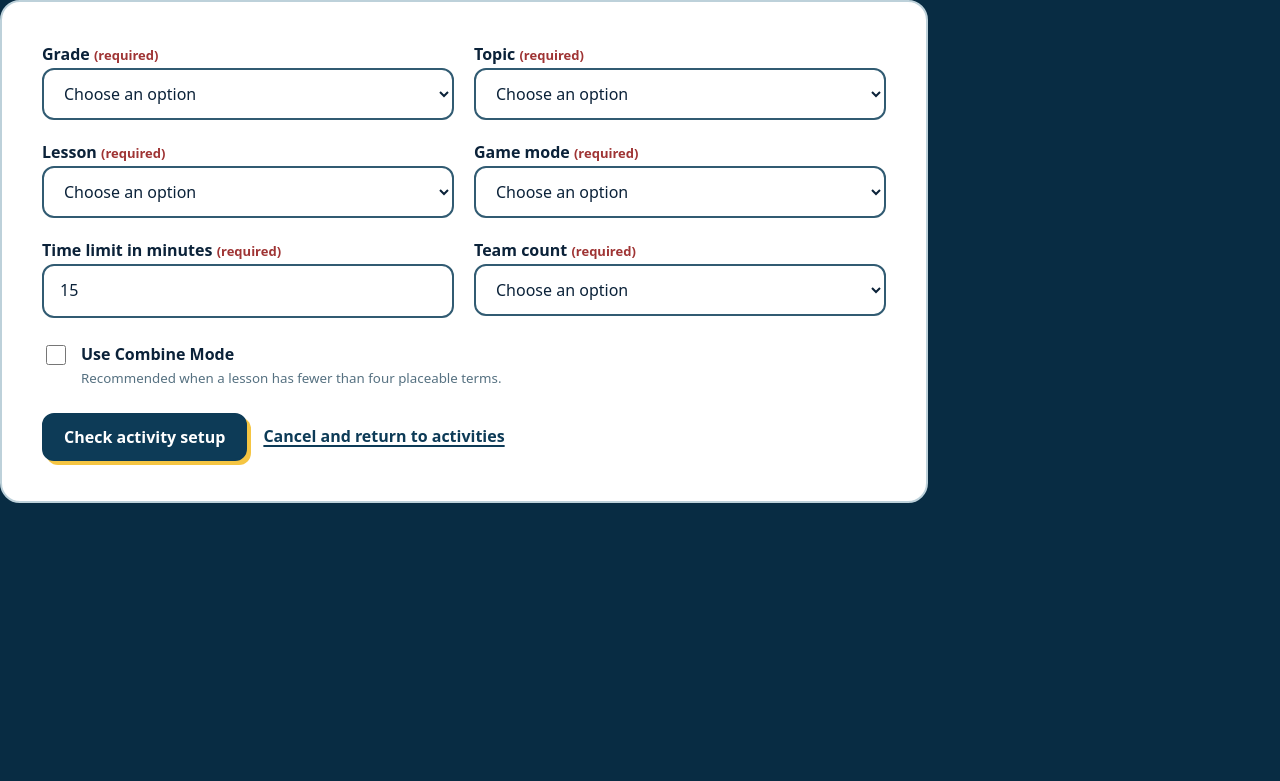
Test case: teacher workflow prototype forms › reports all missing activity choices in a focused summary
What coordinates should you click on to do the following:
click the button "Check activity setup"
I would click on:
 (145, 437)
Its box is [42, 413, 247, 461].
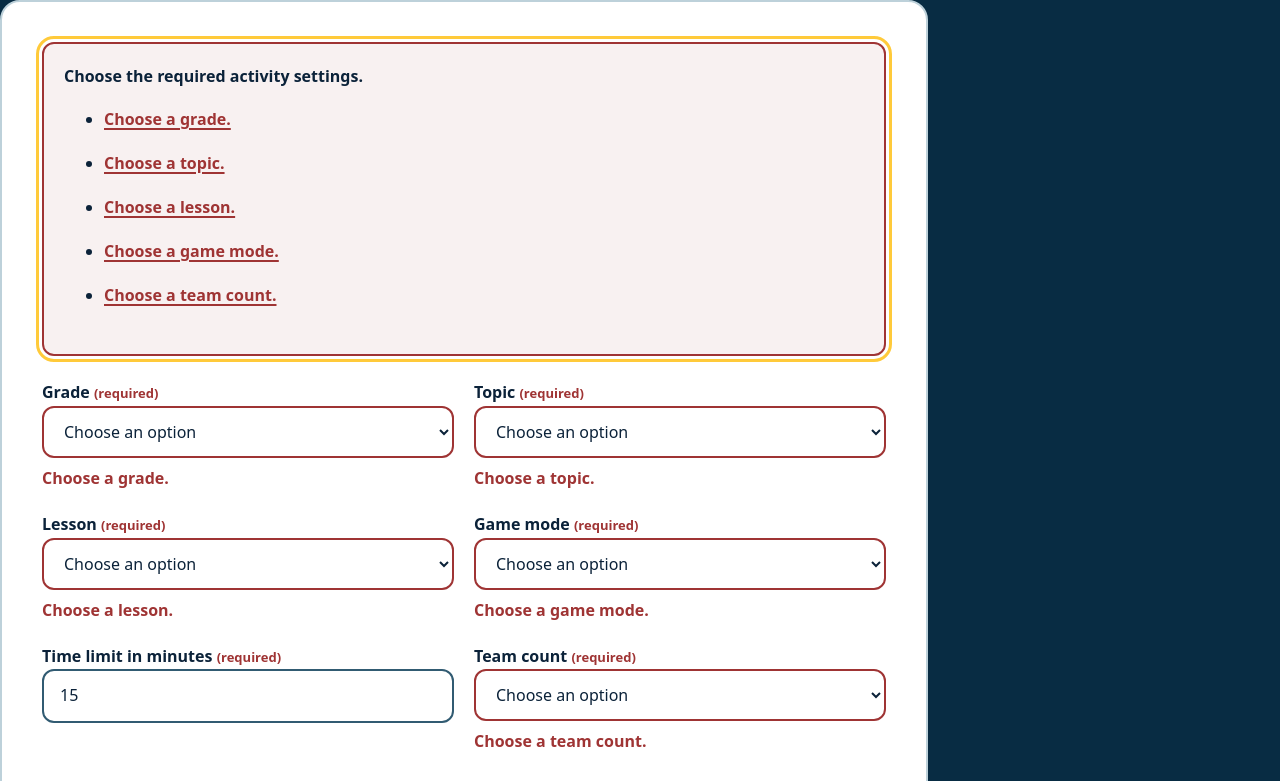
Expected: the number of links "Choose a grade." is 2, [104, 108, 231, 130]; [42, 467, 169, 489]
Expected: the number of links "Choose a lesson." is 2, [104, 196, 235, 218]; [42, 599, 173, 621]
